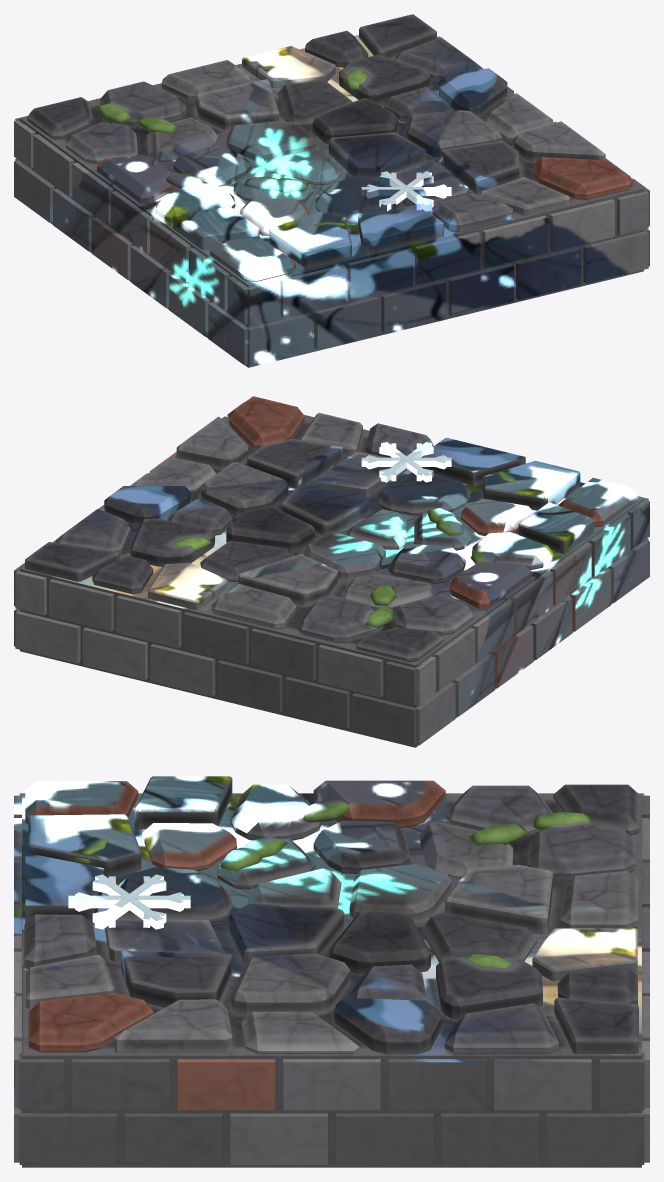
File: rime_plate.glb
The picture shows the model from 3 angles, top to bottom: view 1: azimuth 30°, elevation 25°; view 2: azimuth 150°, elevation 25°; view 3: azimuth 270°, elevation 25°; orthographic projection. The views are drawn at different scales.
Visible parts, largest first — view 1: rime_plate; view 2: rime_plate; view 3: rime_plate.
Part boxes in pixels (x1,y1,x2,y2): rime_plate: (14, 14, 649, 367); rime_plate: (14, 396, 649, 747); rime_plate: (14, 776, 649, 1167).
Bounding box in the file's own units: 2.01 × 0.484 × 2.01.
Materials: 1 (1 with a texture image).
